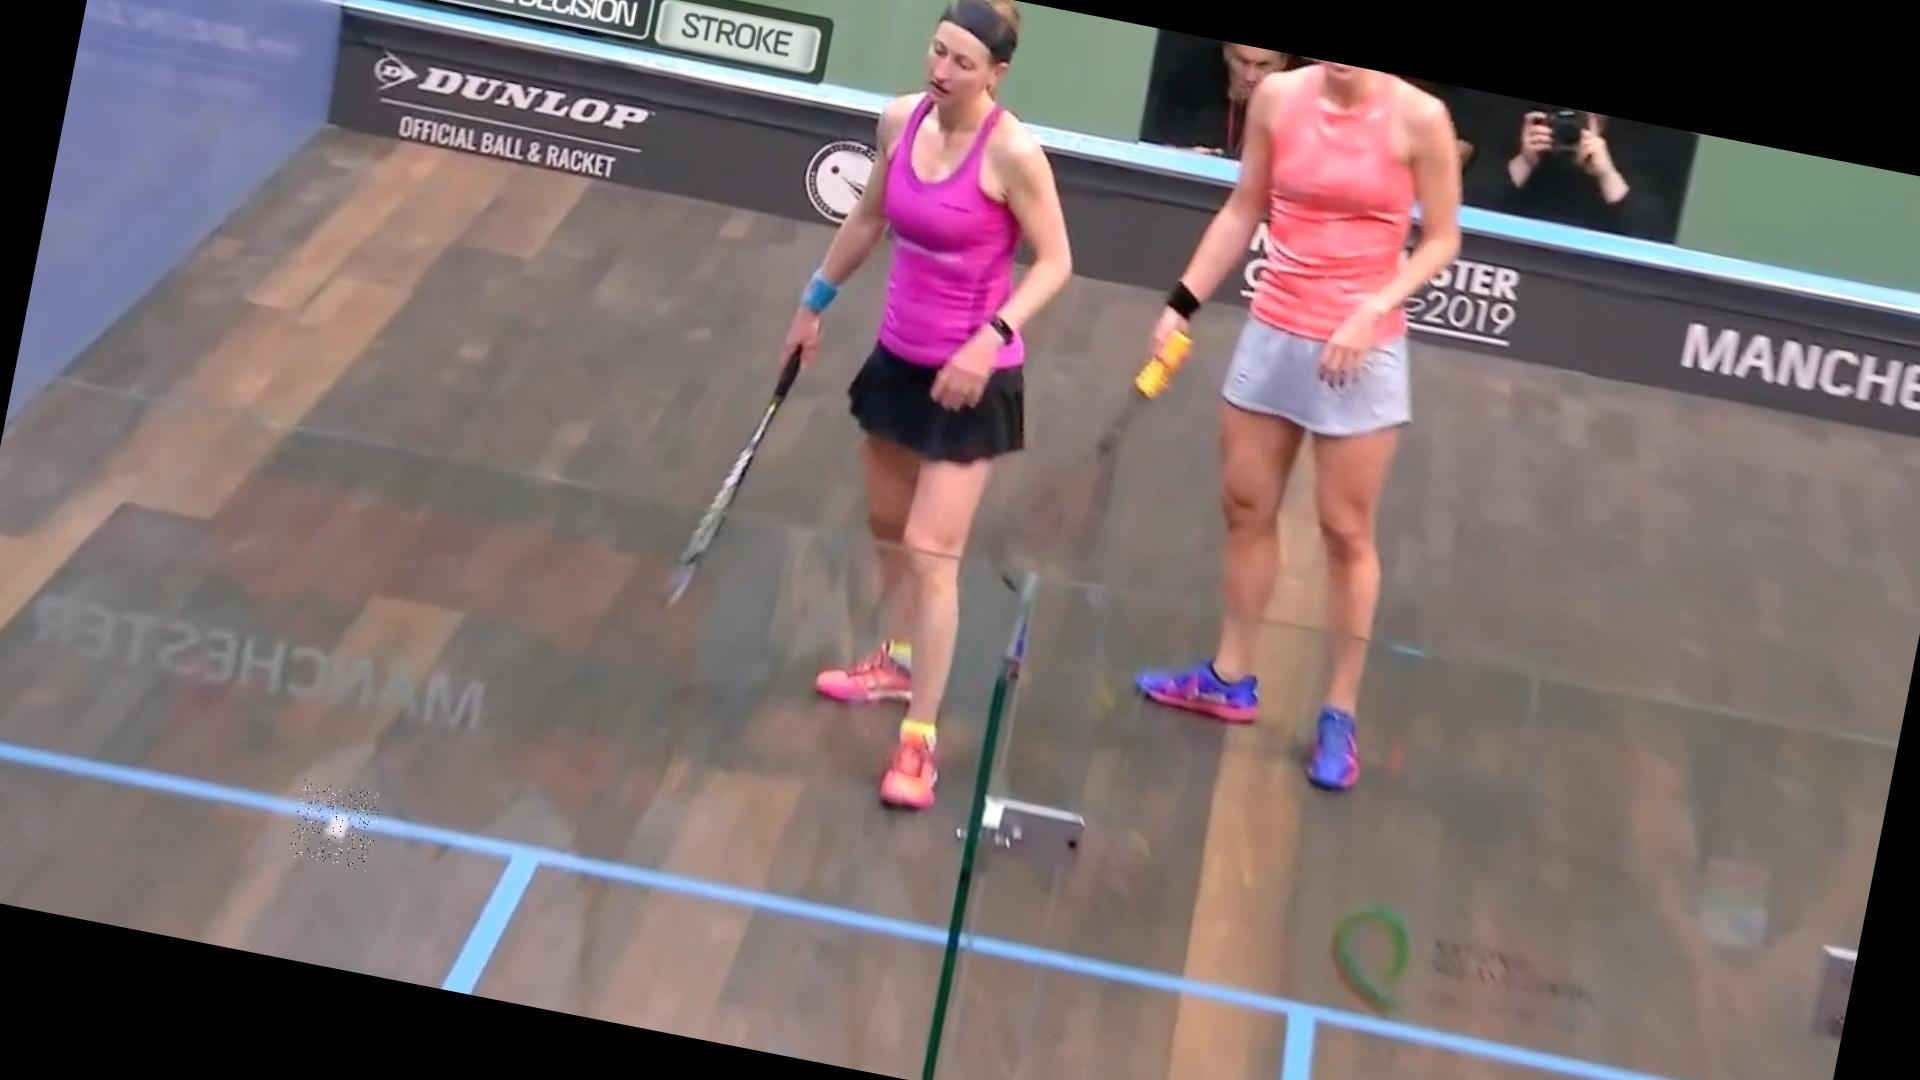Squash-Ball: (287, 779, 382, 872)
